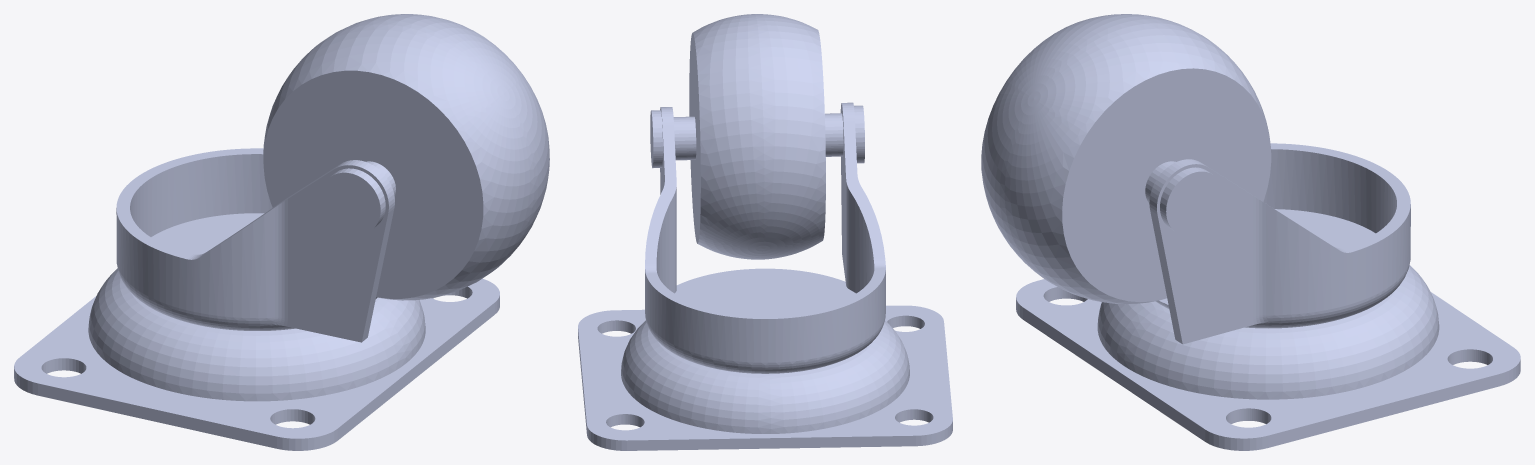
Rendered from Caster_Wheel.dae.
3 renders of one model, left to right at view 1: azimuth 30°, elevation 25°; view 2: azimuth 150°, elevation 25°; view 3: azimuth 270°, elevation 25°, orthographic. The views are drawn at different scales.
Parts seen in each view (by area): view 1: Part 3, Part 1, Part 2, Part 4; view 2: Part 1, Part 3, Part 2, Part 4, Part 5; view 3: Part 3, Part 1, Part 2, Part 4.
Part boxes in pixels (<box>): Part 3: <box>263,14,549,300</box>; Part 1: <box>14,268,499,450</box>; Part 2: <box>116,148,394,342</box>; Part 4: <box>320,161,395,234</box>; Part 1: <box>578,305,952,450</box>; Part 3: <box>689,14,825,259</box>; Part 2: <box>645,102,885,373</box>; Part 4: <box>650,105,864,168</box>; Part 5: <box>717,289,813,314</box>; Part 3: <box>981,14,1271,304</box>; Part 1: <box>1016,265,1520,450</box>; Part 2: <box>1149,143,1410,344</box>; Part 4: <box>1145,161,1223,235</box>.
Size of the model in its own units: 0.0462 by 0.0474 by 0.034.
